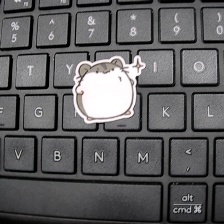mouse: (71, 55, 148, 125)
